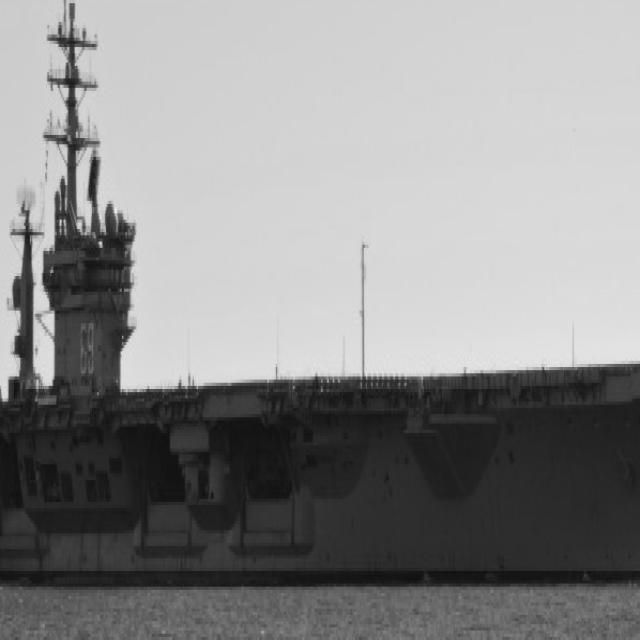Portanaves: (1, 1, 640, 585)
